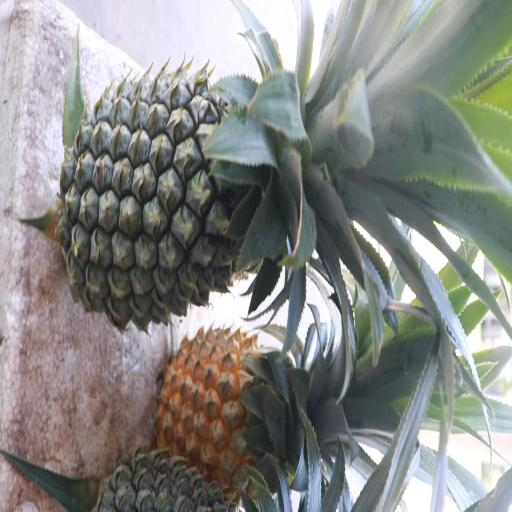Pineapple - v8 v1: (162, 326, 337, 484)
